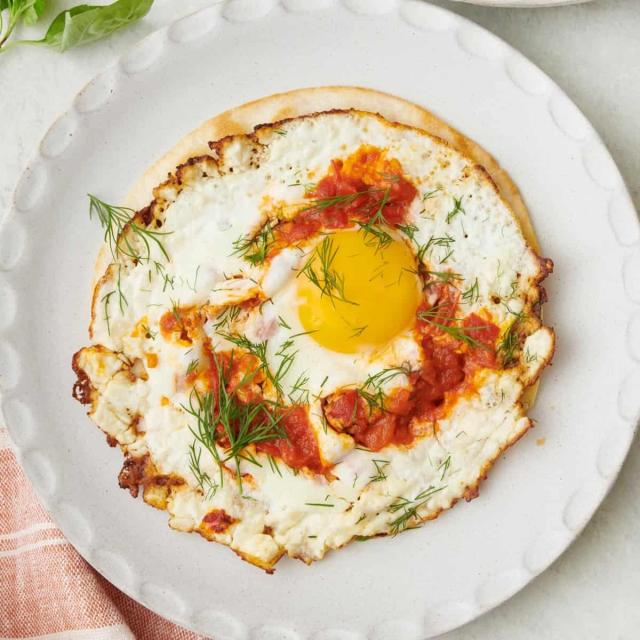Egg: (72, 89, 554, 570)
